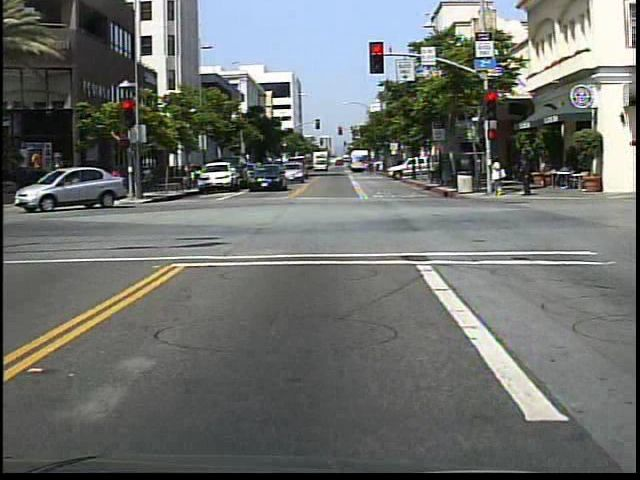person: (487, 153, 508, 203), (519, 151, 537, 196), (112, 164, 129, 205)
